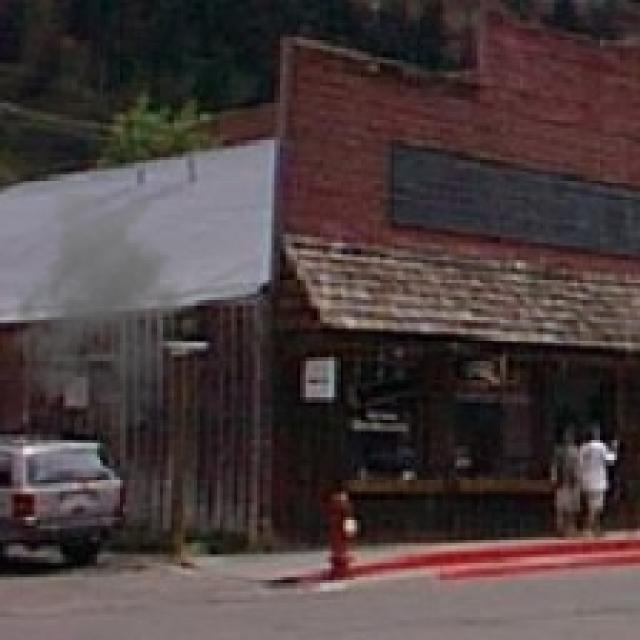Smoke: (6, 194, 206, 434)
